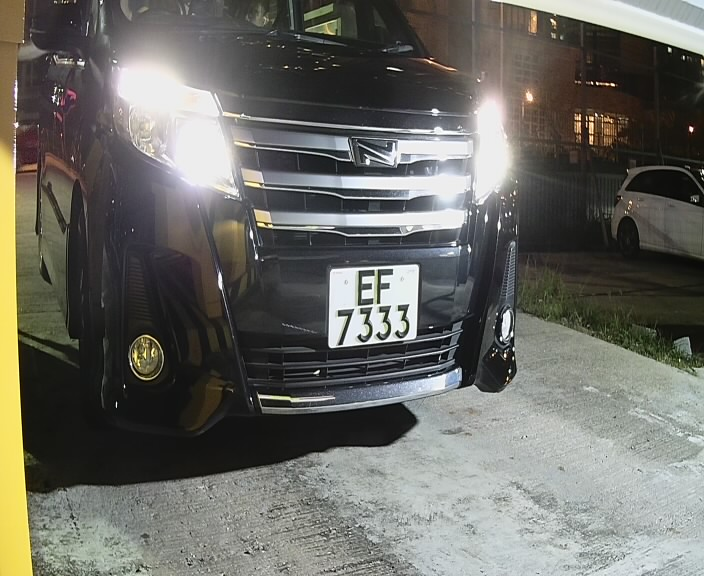License Plate: (322, 255, 432, 359)
